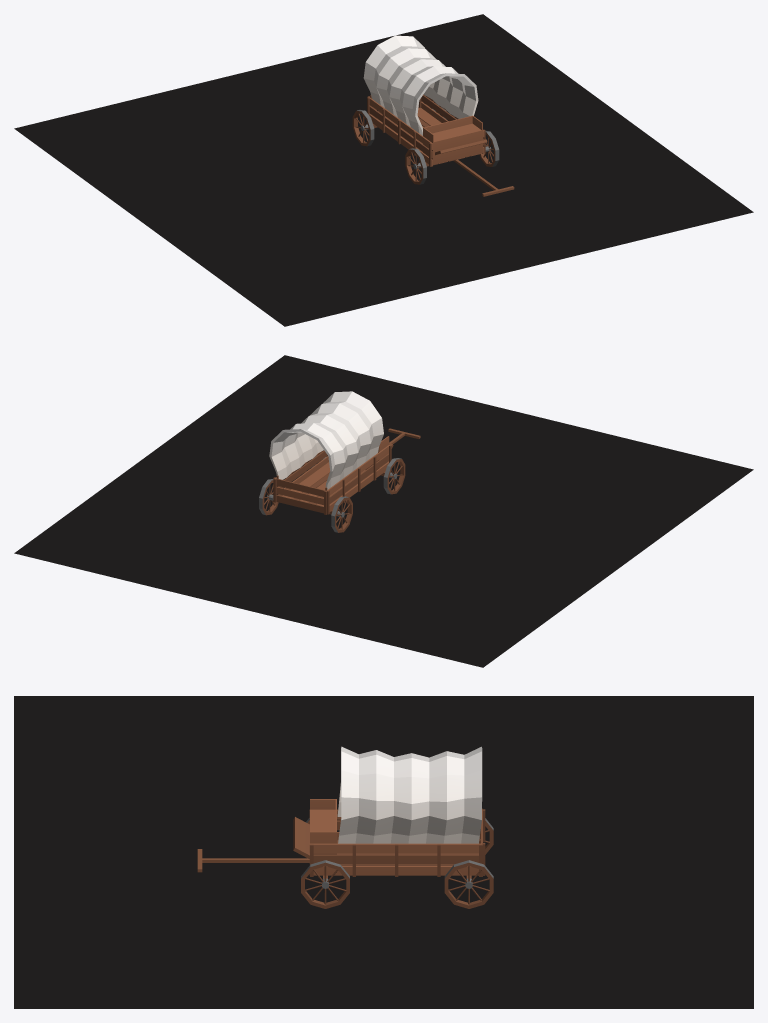
The model's file is Tile 17_Combined.fbx.
The picture shows the model from 3 angles, top to bottom: view 1: azimuth 30°, elevation 25°; view 2: azimuth 150°, elevation 25°; view 3: azimuth 270°, elevation 25°; orthographic projection. The views are drawn at different scales.
Parts seen in each view (by area): view 1: MeshBaker_Cluster_0_mesh_mesh; view 2: MeshBaker_Cluster_0_mesh_mesh; view 3: MeshBaker_Cluster_0_mesh_mesh.
Boxes of the visible parts, x1,y1,x2,y2 form: MeshBaker_Cluster_0_mesh_mesh: (14, 14, 753, 326); MeshBaker_Cluster_0_mesh_mesh: (14, 355, 753, 667); MeshBaker_Cluster_0_mesh_mesh: (14, 696, 753, 1008).
Bounding box in the file's own units: 3000 × 594 × 3000.
